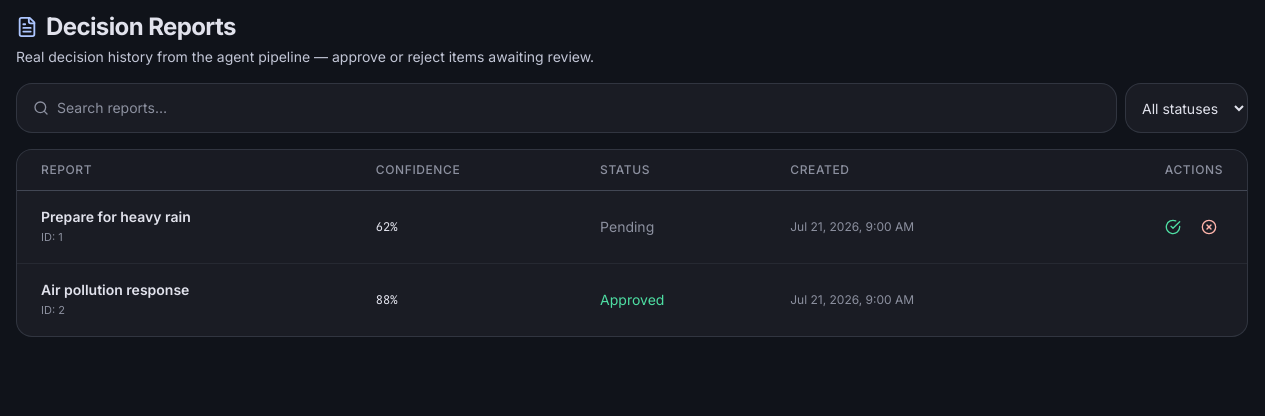
Test: ReportsPage › dismisses the action error banner when Dismiss is clicked
The width and height of the screenshot is (1265, 416).
Click the button with test id "report-approve-button" at (1173, 227), box [1159,213,1187,241]
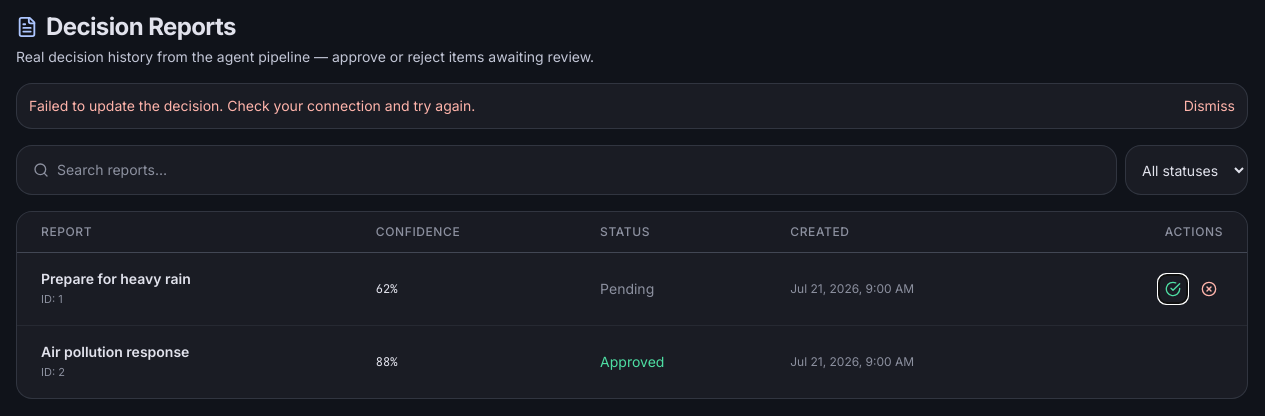
Expected: the element with test id "reports-action-error" is shown, [16,83,1248,129]
Click the button with test id "reports-action-error-dismiss" at (1209, 106), box [1184,96,1235,116]
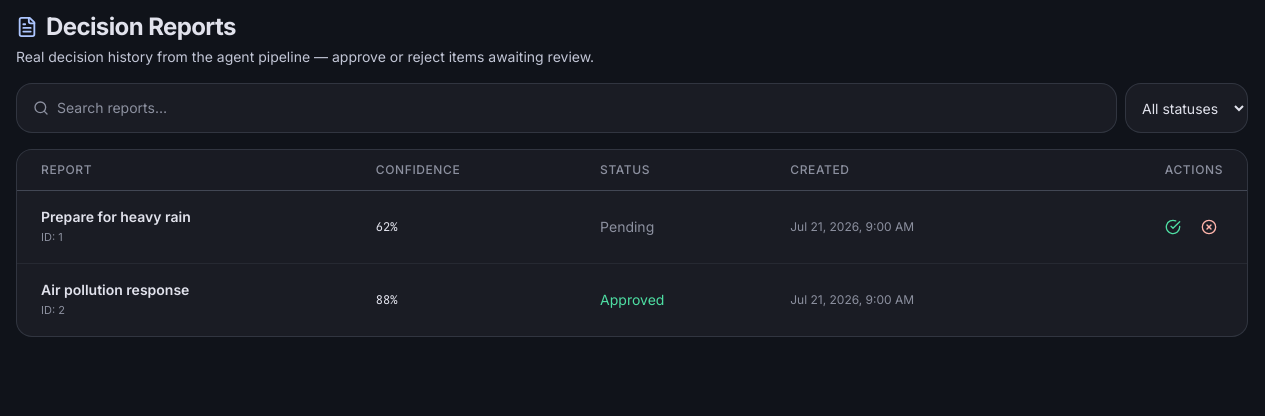
Expected: the element with test id "reports-action-error" is gone
